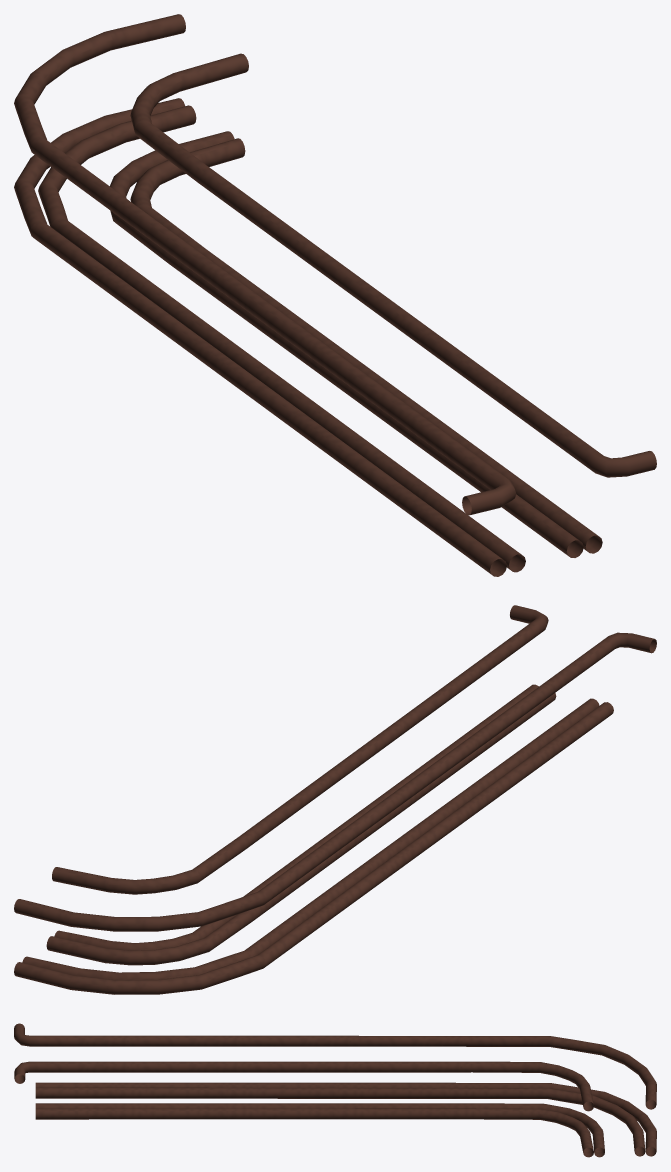
File: PipesLab.fbx
3 views of the same model, one above another, from view 1: azimuth 30°, elevation 25°; view 2: azimuth 150°, elevation 25°; view 3: azimuth 270°, elevation 25° (orthographic). The views are drawn at different scales.
Parts seen in each view (by area): view 1: Cube.099; view 2: Cube.099; view 3: Cube.099.
Part boxes in pixels (x1,y1,x2,y2): Cube.099: (14, 14, 656, 576); Cube.099: (14, 605, 656, 994); Cube.099: (14, 1023, 656, 1157).
Bounding box in the file's own units: 1986 × 674 × 6904.
